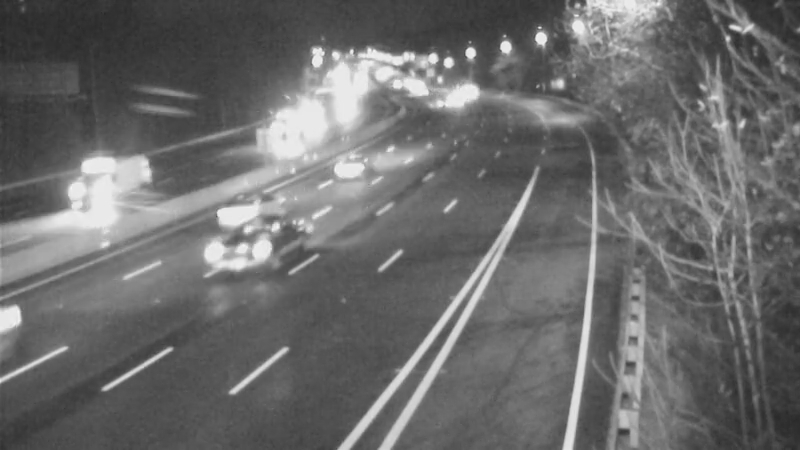vehicle: (312, 129, 392, 209), (203, 165, 283, 245), (198, 214, 278, 294), (45, 152, 125, 232), (445, 69, 495, 119), (424, 73, 474, 123), (416, 78, 466, 128), (254, 105, 304, 155)
